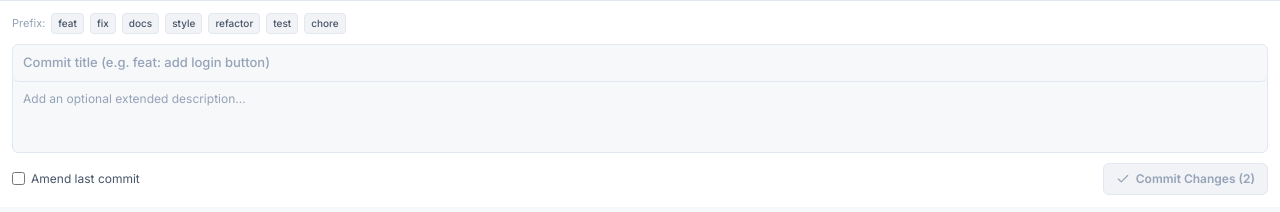
CommitBox › does not overwrite what the user typed before the full message arrived
Click the checkbox labelled "Amend last commit" at (18, 178), box left=12, top=172, right=25, bottom=185
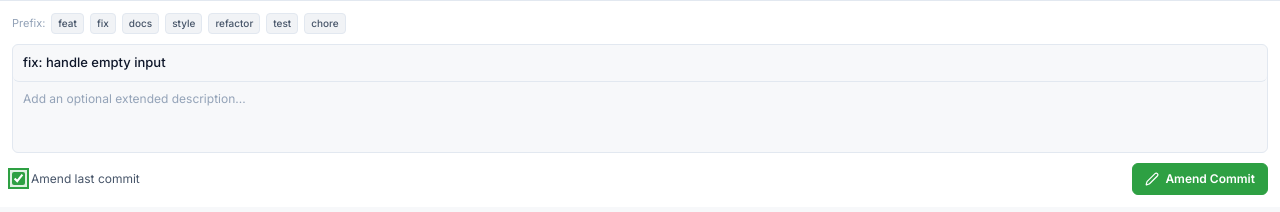
Type " now" into the field with placeholder "Commit title (e.g. feat: add login button)" at (640, 63), box left=13, top=45, right=1267, bottom=82
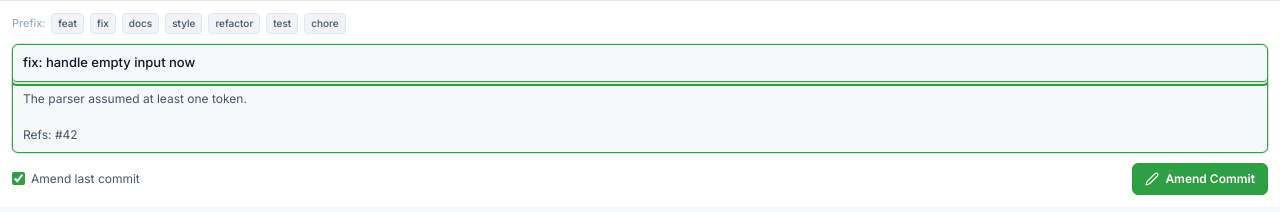
Expected: the field with placeholder "Commit title (e.g. feat: add login button)" holds "fix: handle empty input now", left=13, top=45, right=1267, bottom=82
